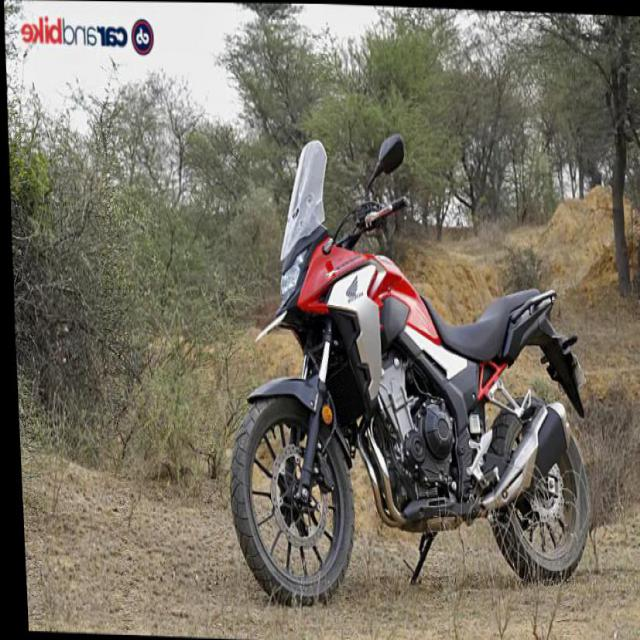CB500X: (210, 137, 592, 616)
